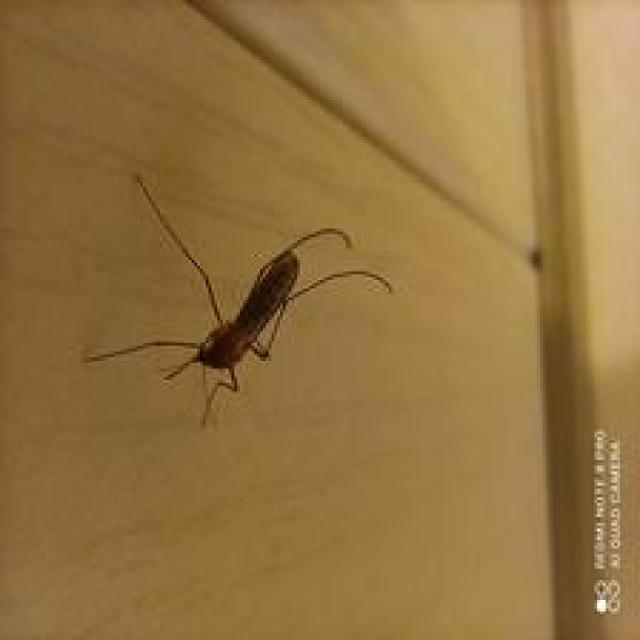Culex: (81, 172, 393, 428)
